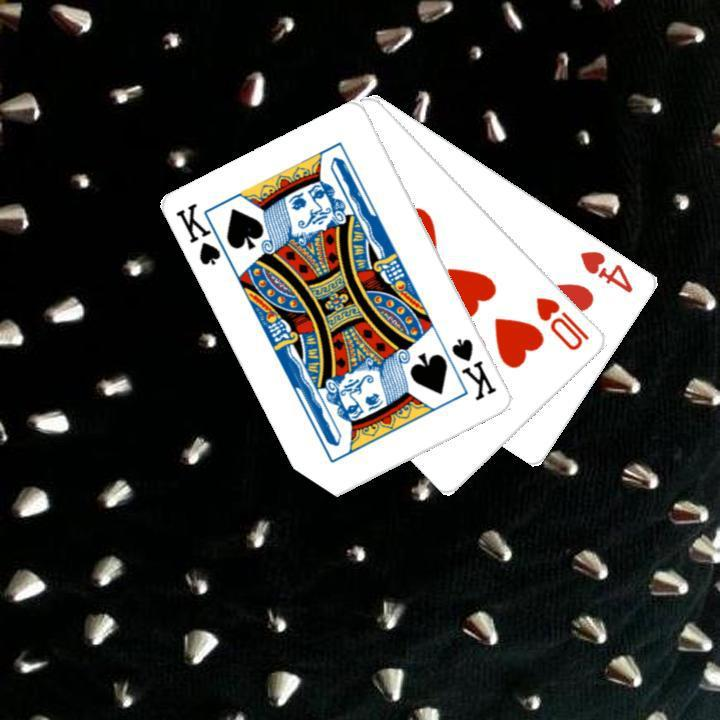10: (531, 292, 592, 353)
4: (576, 246, 636, 295)
K: (172, 199, 235, 268), (447, 333, 499, 403)
